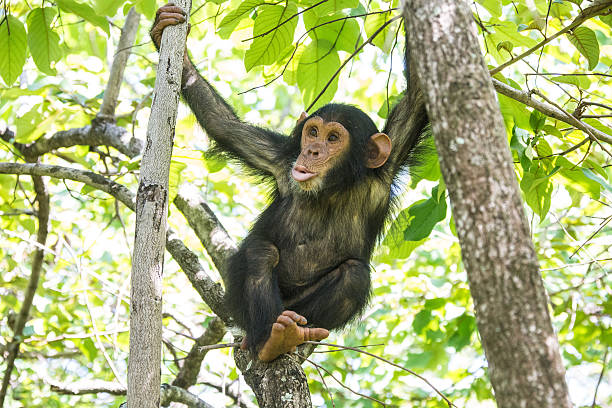chimpanzee: (277, 99, 394, 216)
